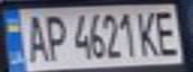1: (118, 8, 136, 59)
2: (103, 9, 121, 60)
4: (69, 10, 90, 61)
6: (87, 9, 109, 60)
A: (18, 11, 51, 63)
E: (151, 7, 184, 56)
K: (136, 8, 163, 57)
P: (39, 10, 69, 62)
